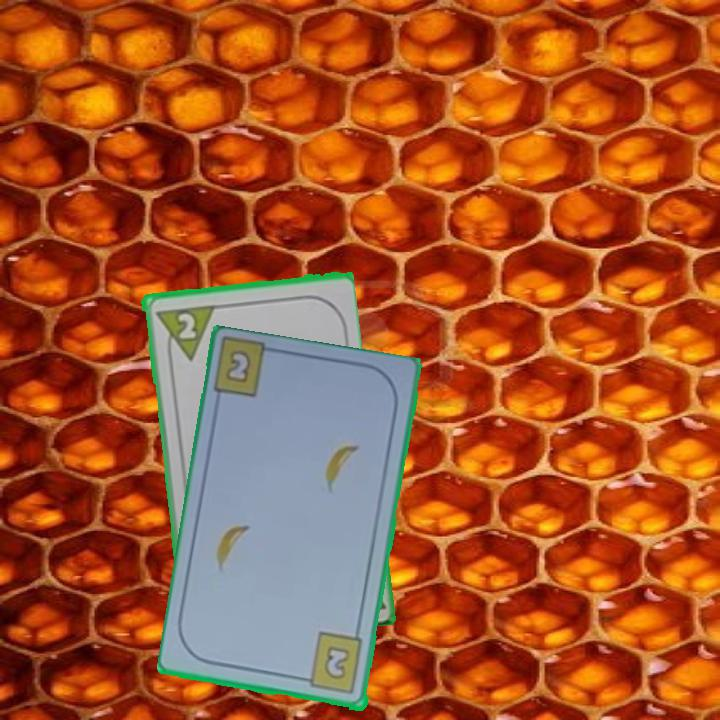2b: (297, 630, 366, 697), (225, 350, 252, 383)
2p: (151, 300, 216, 365)
